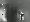person: (1, 5, 10, 22), (18, 11, 24, 20)
